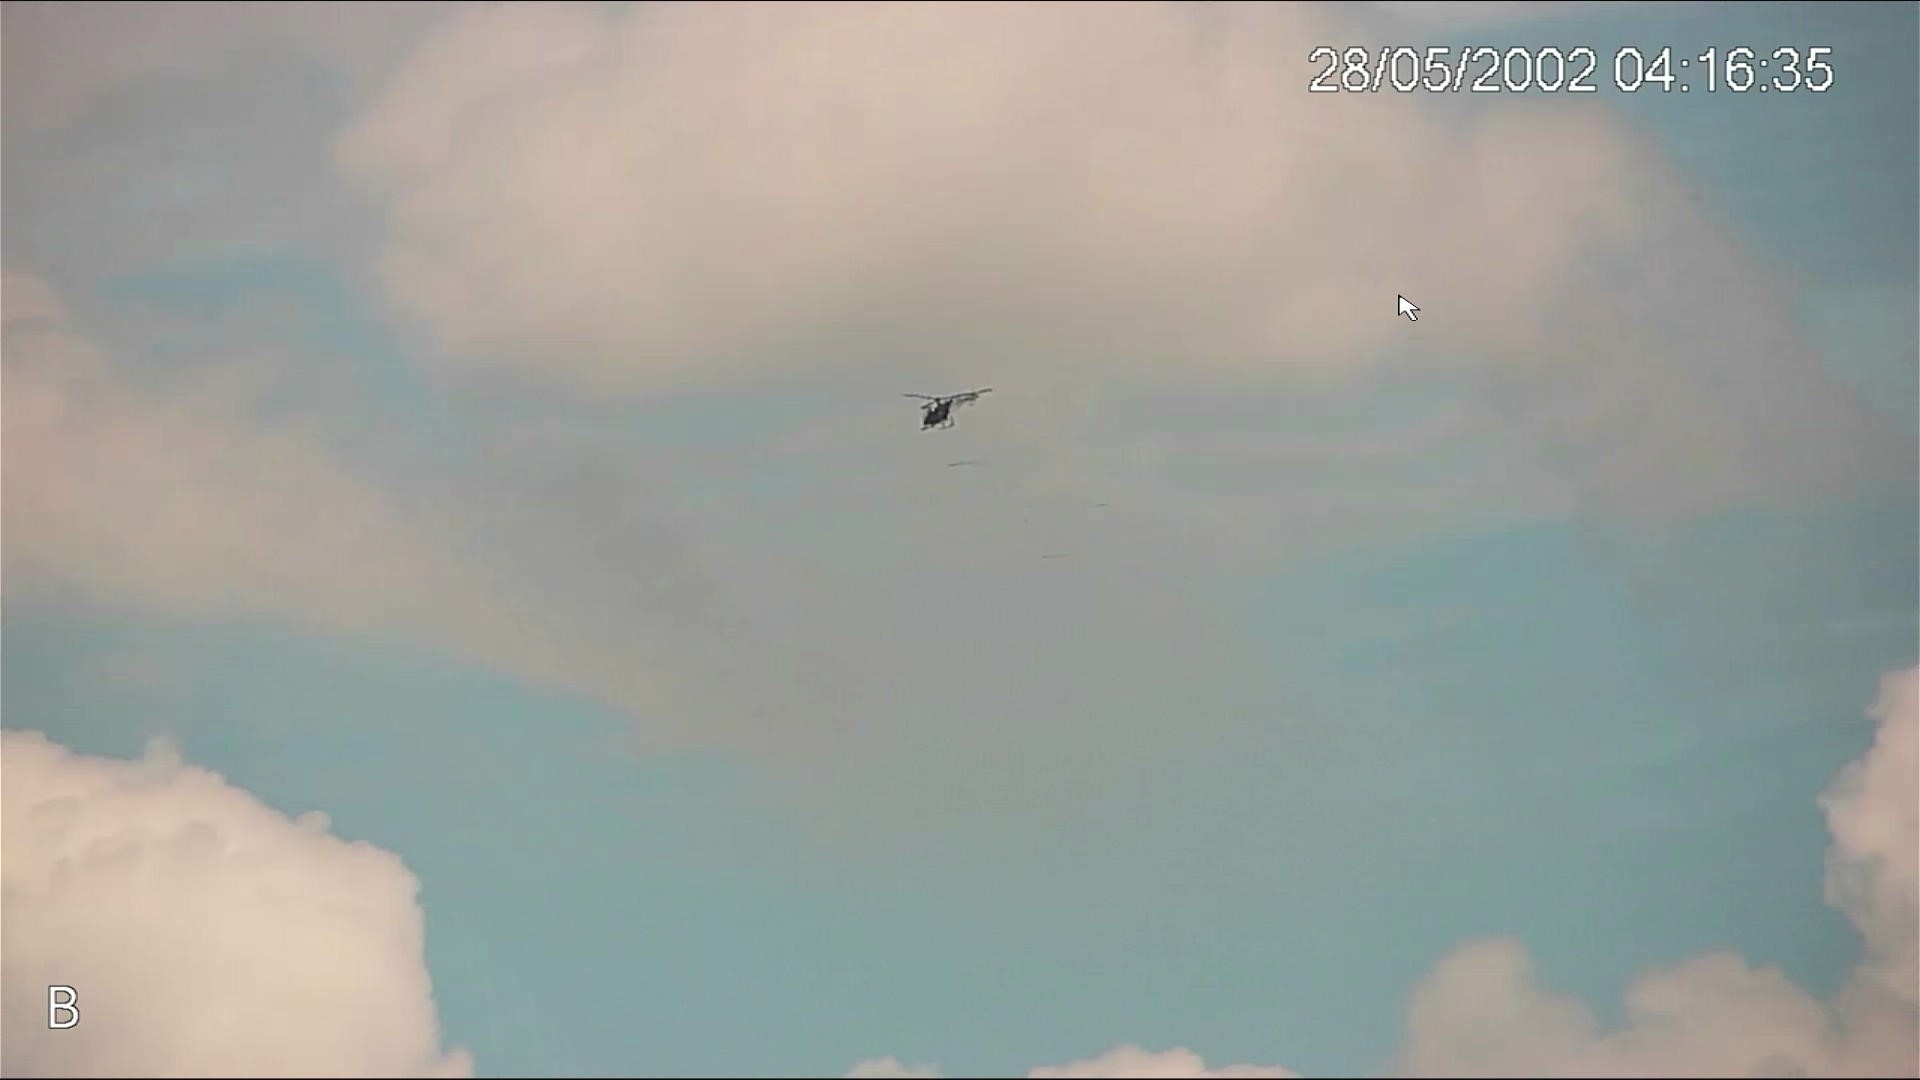SU_30: (914, 390, 978, 440)
